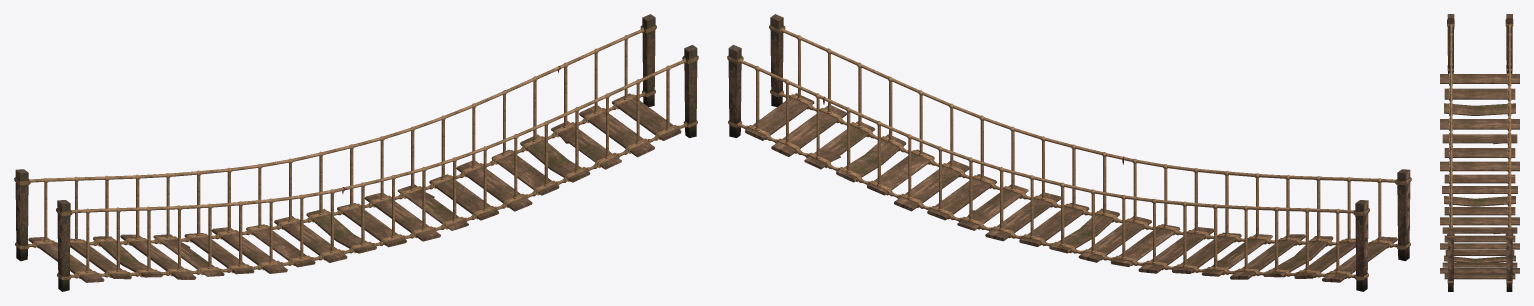
File: rope_bridge1.glb
3 views of the same model, side by side, from view 1: azimuth 30°, elevation 25°; view 2: azimuth 150°, elevation 25°; view 3: azimuth 270°, elevation 25° (orthographic). The views are drawn at different scales.
Visible parts, largest first — view 1: ropebridge; view 2: ropebridge; view 3: ropebridge.
Part boxes in pixels (bbox=[...]): ropebridge: bbox=[14, 14, 698, 291]; ropebridge: bbox=[727, 14, 1411, 291]; ropebridge: bbox=[1440, 14, 1519, 291].
Size of the model in its own units: 9.38 by 1.75 by 1.46.
Materials: 1 (1 with a texture image).
